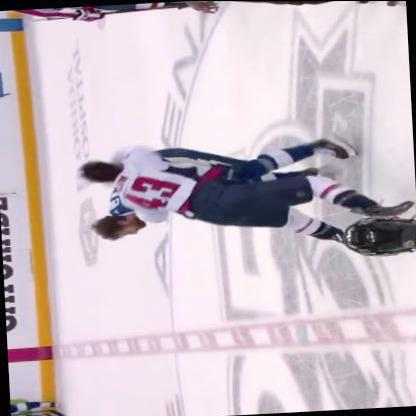voilence: (74, 133, 356, 243)
